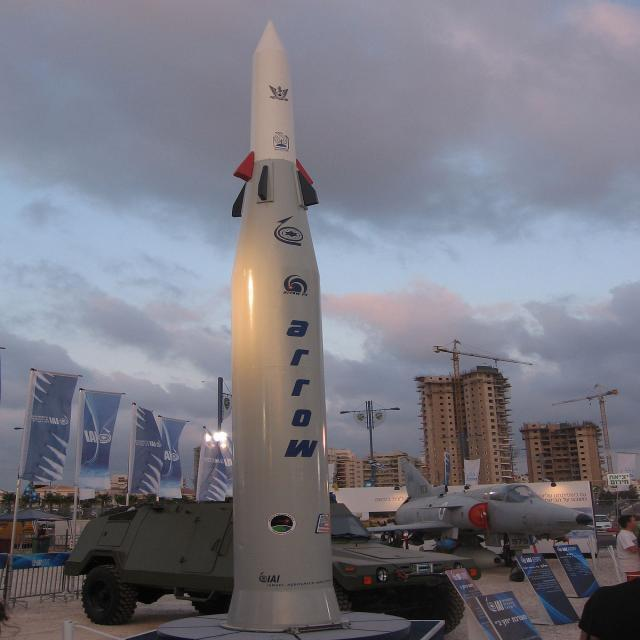missile: (225, 16, 342, 632)
